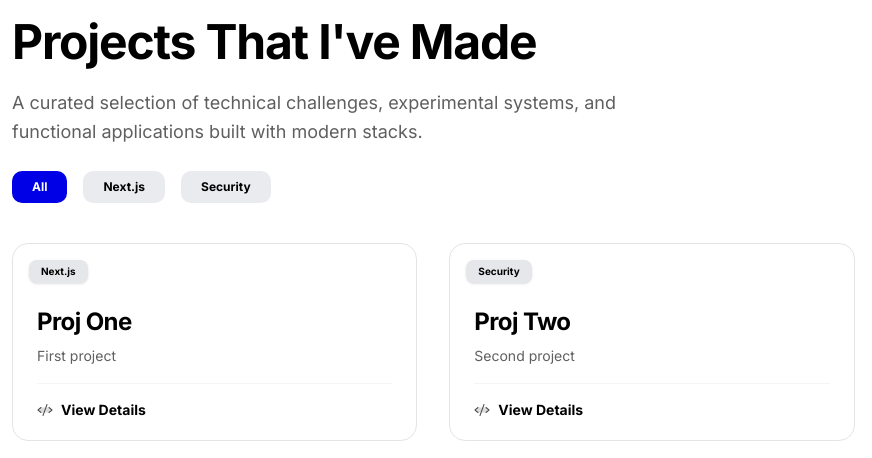
it: ProjectList wrapper wiring › filters by project.technologies through getTags
Click the text with class "cursor-pointer" at [226, 186], box [181,170,271,202]
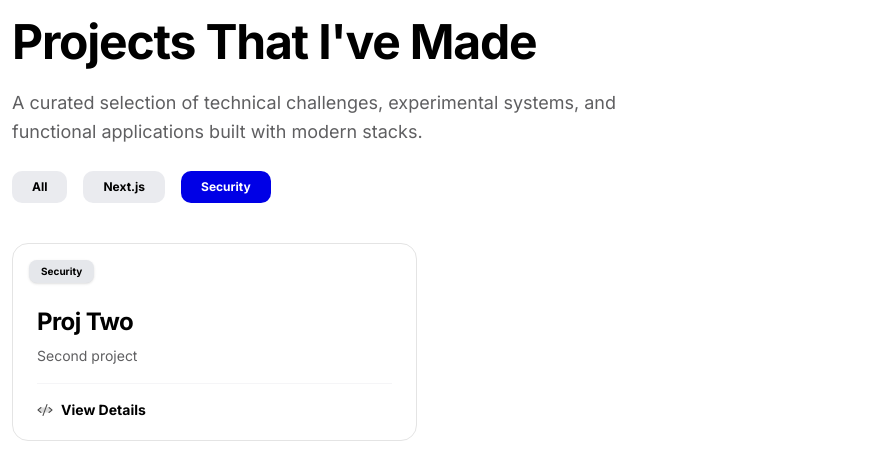
Expected: the heading "Proj Two" is shown, [37,306,133,336]
Now the heading "Proj One" is gone
